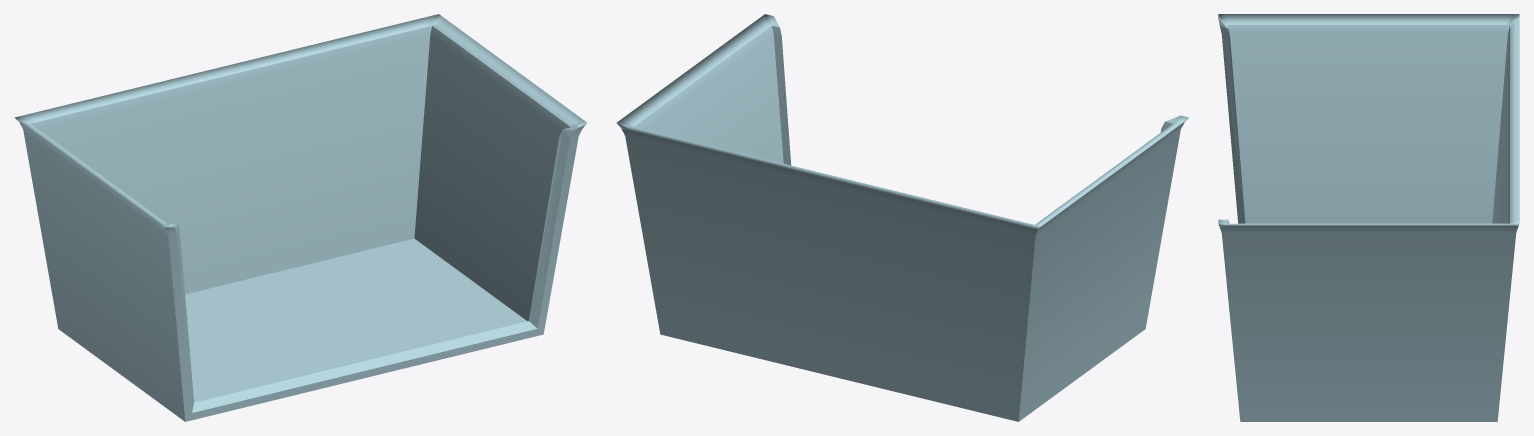
File: watertank.fbx
3 renders of one model, left to right at view 1: azimuth 30°, elevation 25°; view 2: azimuth 150°, elevation 25°; view 3: azimuth 270°, elevation 25°, orthographic.
Parts seen in each view (by area): view 1: WaterTank; view 2: WaterTank; view 3: WaterTank.
Boxes of the visible parts, x1,y1,x2,y2 form: WaterTank: (14,14,587,421); WaterTank: (616,14,1189,421); WaterTank: (1218,14,1519,421).
Size of the model in its own units: 9.78 by 4.66 by 5.94.
